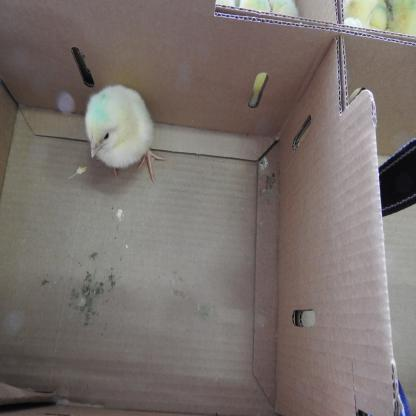Chickrotationtrack_idkeyframe: (80, 86, 158, 176)
